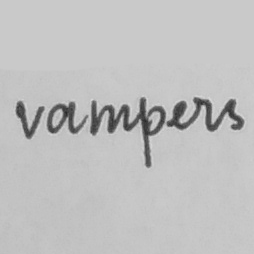a: (44, 99, 80, 137)
e: (170, 97, 189, 132)
m: (86, 96, 131, 138)
p: (136, 93, 168, 170)
r: (190, 95, 216, 134)
s: (221, 96, 246, 134)
v: (14, 97, 43, 140)
